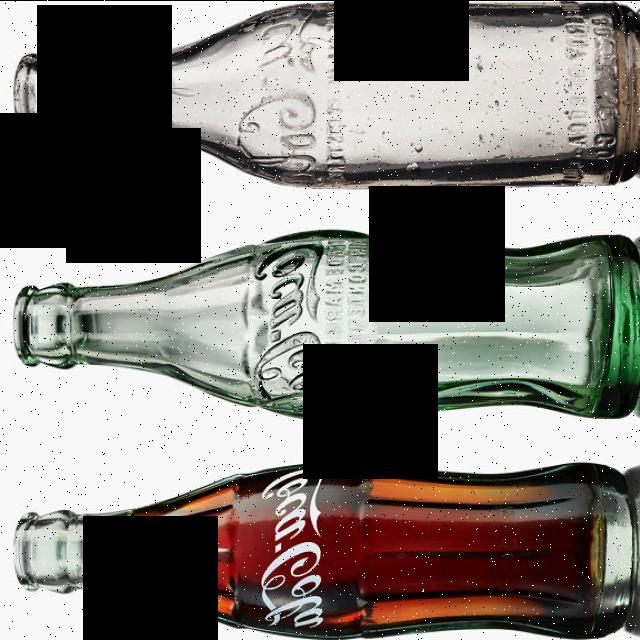glass-bottle: (10, 220, 640, 430), (9, 1, 640, 199), (3, 454, 640, 640)
